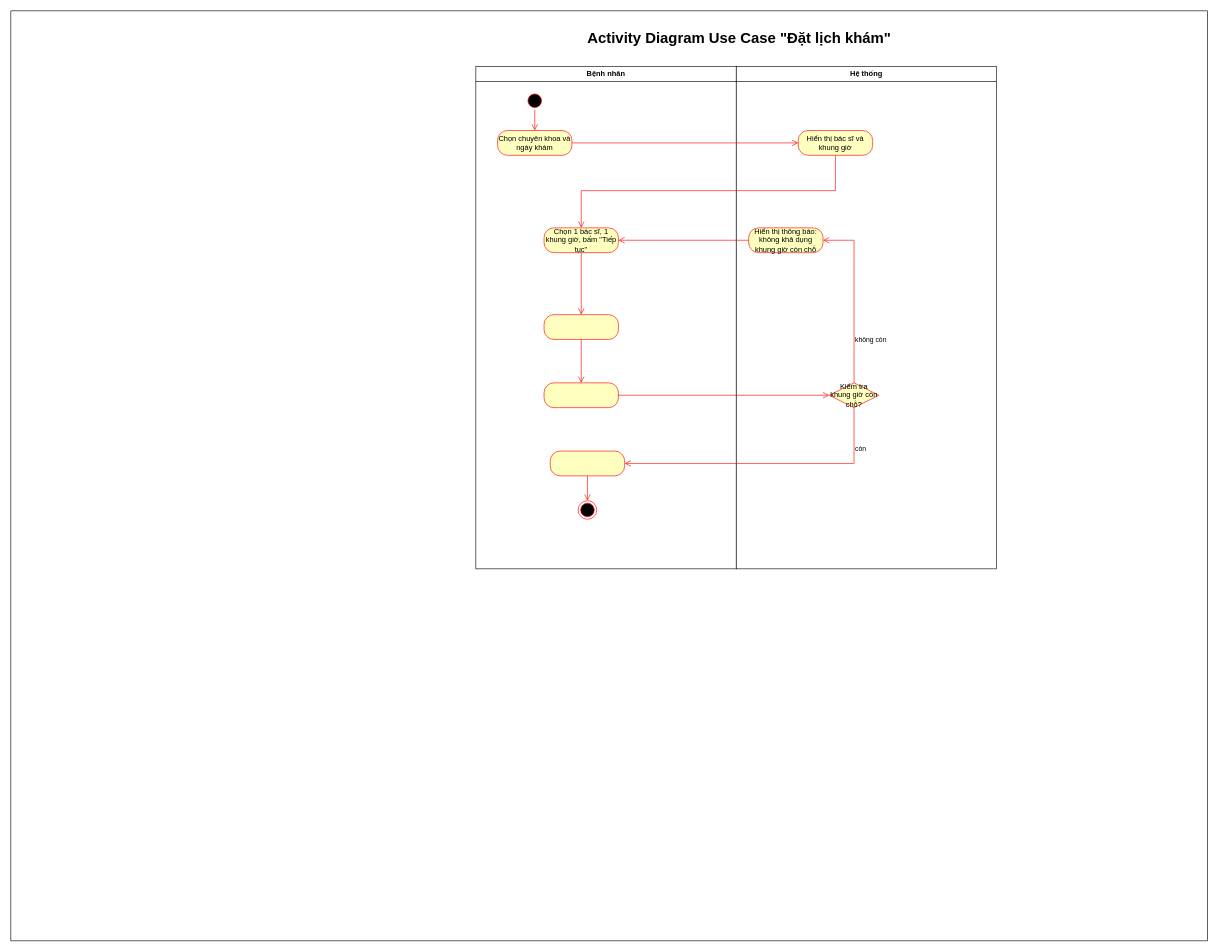
Some shapes in this 1218 by 952 pixel diagram are drawn without their labels. Each missing label, with the centre of its shape:
Chọn dịch vụ xét nghiệm, nhập triệu chứng: point (580, 326)
Tạo lịch hẹn, cấp số thứ tự và thông báo thành công: point (587, 463)
Xem chi phí dự kiến, bấm "Xác nhận đặt lịch": point (580, 395)
